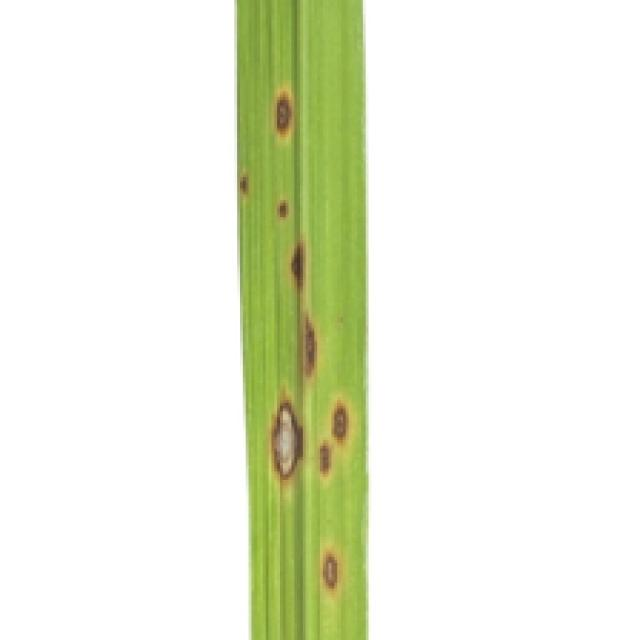Rice___Rice_Blast: (234, 0, 376, 637)
